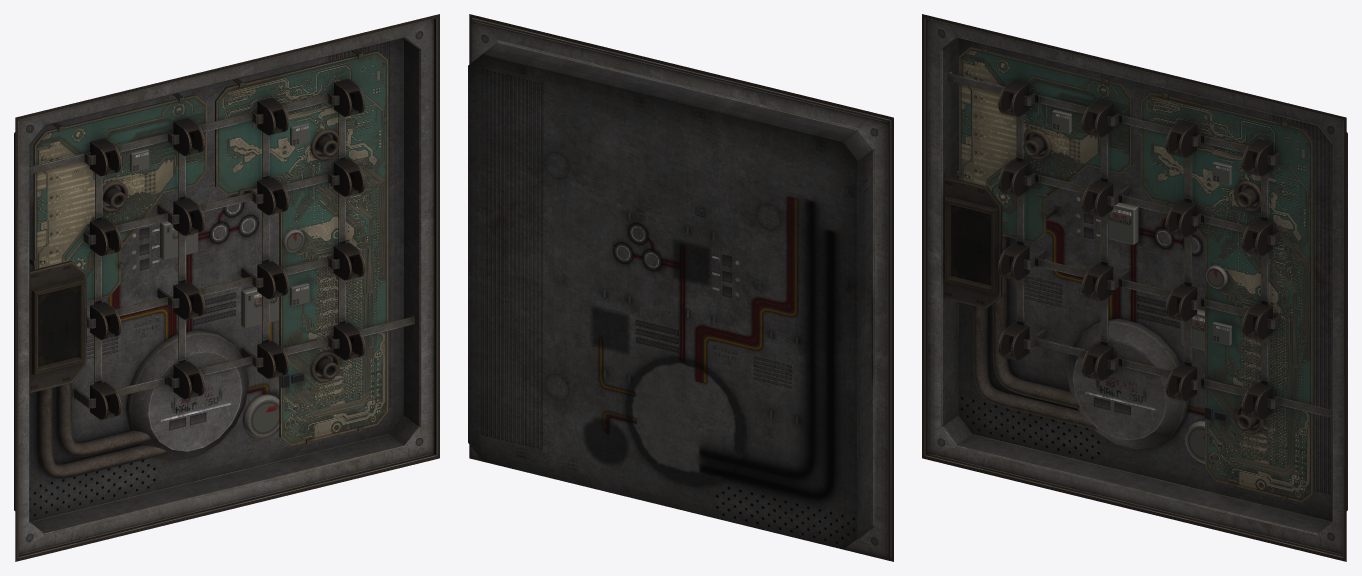
Rendered from substation_powerpanel.dae.
3 views of the same model, side by side, from view 1: azimuth 30°, elevation 25°; view 2: azimuth 150°, elevation 25°; view 3: azimuth 330°, elevation 25° (orthographic).
Parts seen in each view (by area): view 1: polySurface502; view 2: polySurface502; view 3: polySurface502.
Boxes of the visible parts, x1,y1,x2,y2 form: polySurface502: (14, 14, 439, 561); polySurface502: (468, 14, 893, 561); polySurface502: (922, 14, 1347, 561).
Bounding box in the file's own units: 1 × 1 × 0.1067.
Materials: 1 (1 with a texture image).
